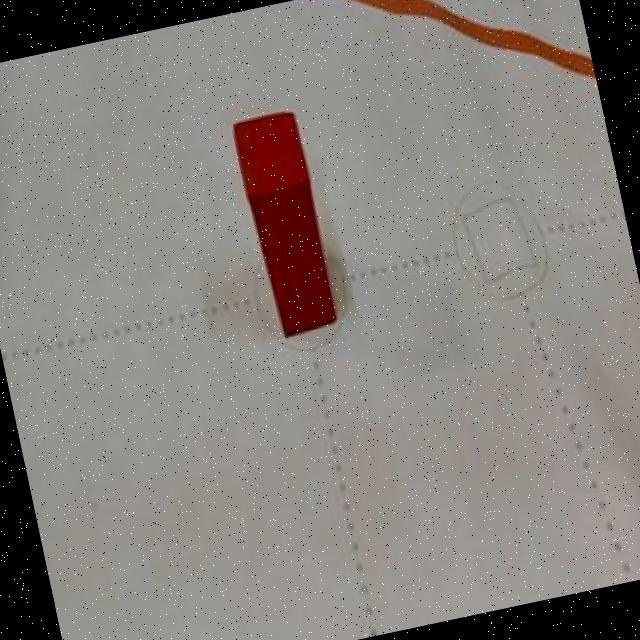redbox: (228, 104, 341, 335)
